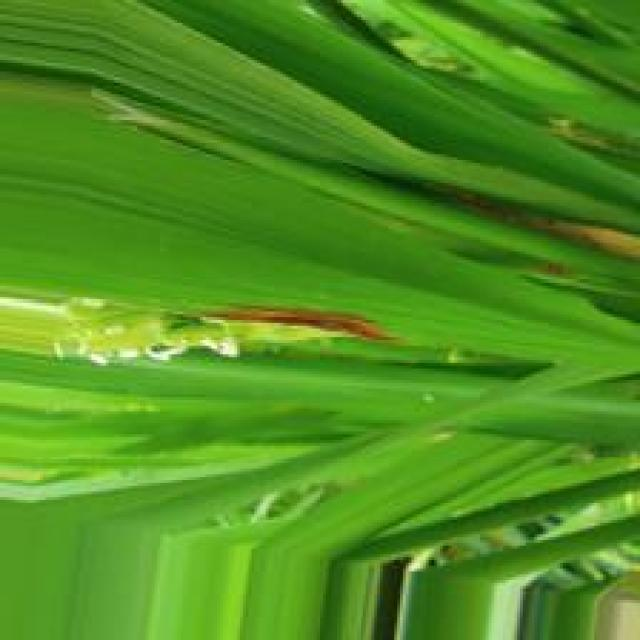Rice Tungro: (199, 306, 390, 344)
